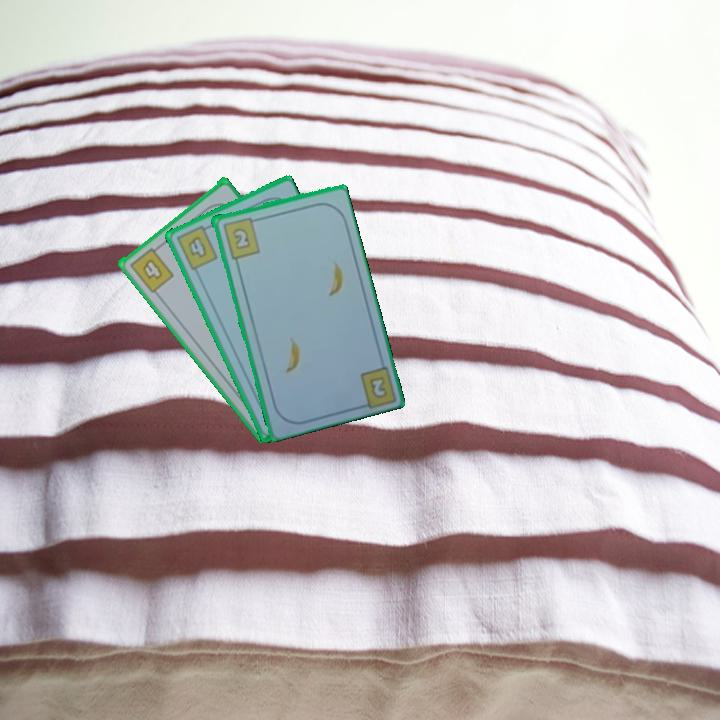2b: (219, 213, 262, 262), (366, 373, 388, 401)
4b: (126, 241, 176, 296), (173, 221, 220, 273)
